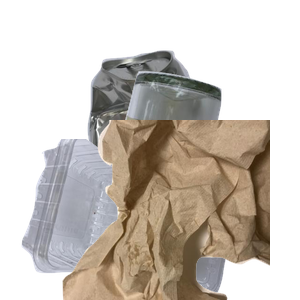glass: (109, 69, 300, 249)
metal: (85, 48, 300, 228)
plastic: (19, 139, 249, 300)
trash: (60, 120, 300, 300)
